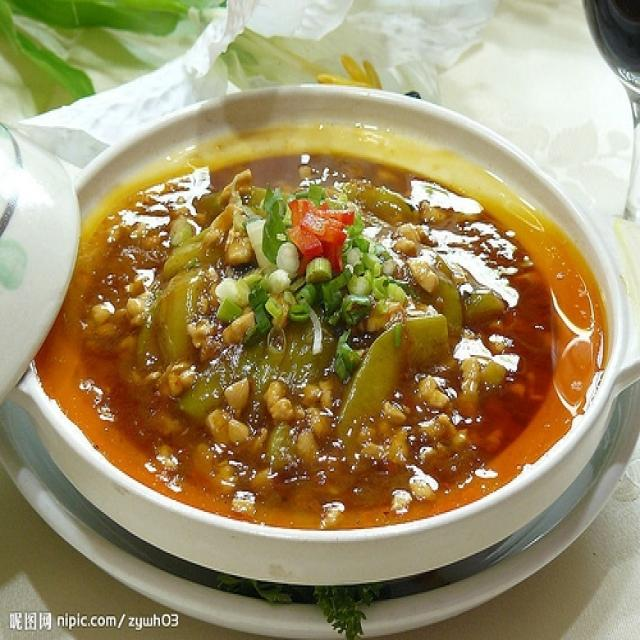鸡蛋料理: (12, 100, 627, 566)
